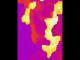Foc: (38, 10, 62, 58), (17, 0, 47, 27), (51, 0, 62, 13)
